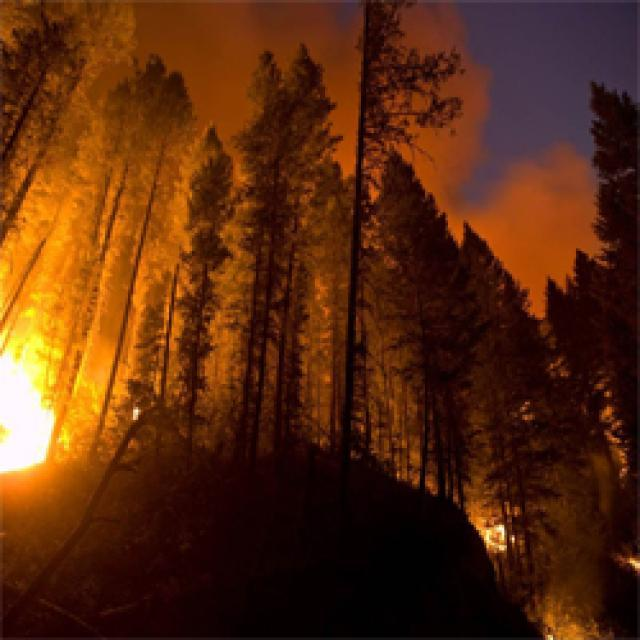Fire: (0, 280, 73, 490), (451, 454, 548, 588), (490, 578, 614, 640), (587, 522, 640, 583)
Smoke: (0, 0, 141, 302), (78, 136, 152, 450)
